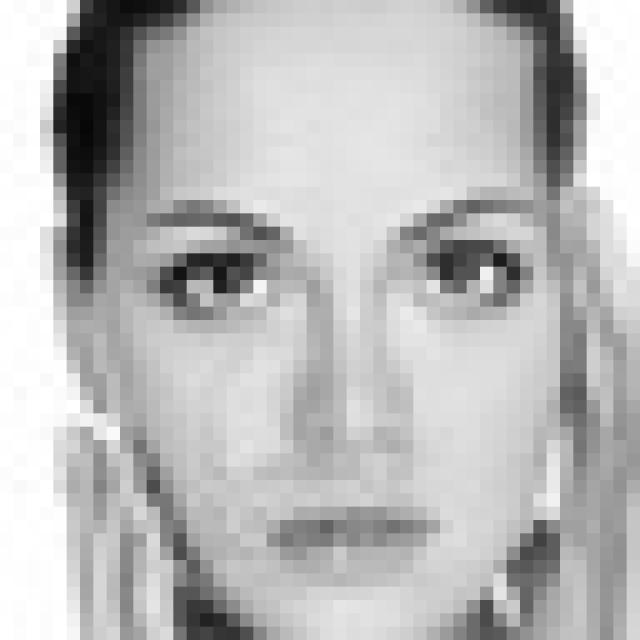neutral: (133, 198, 530, 585)
